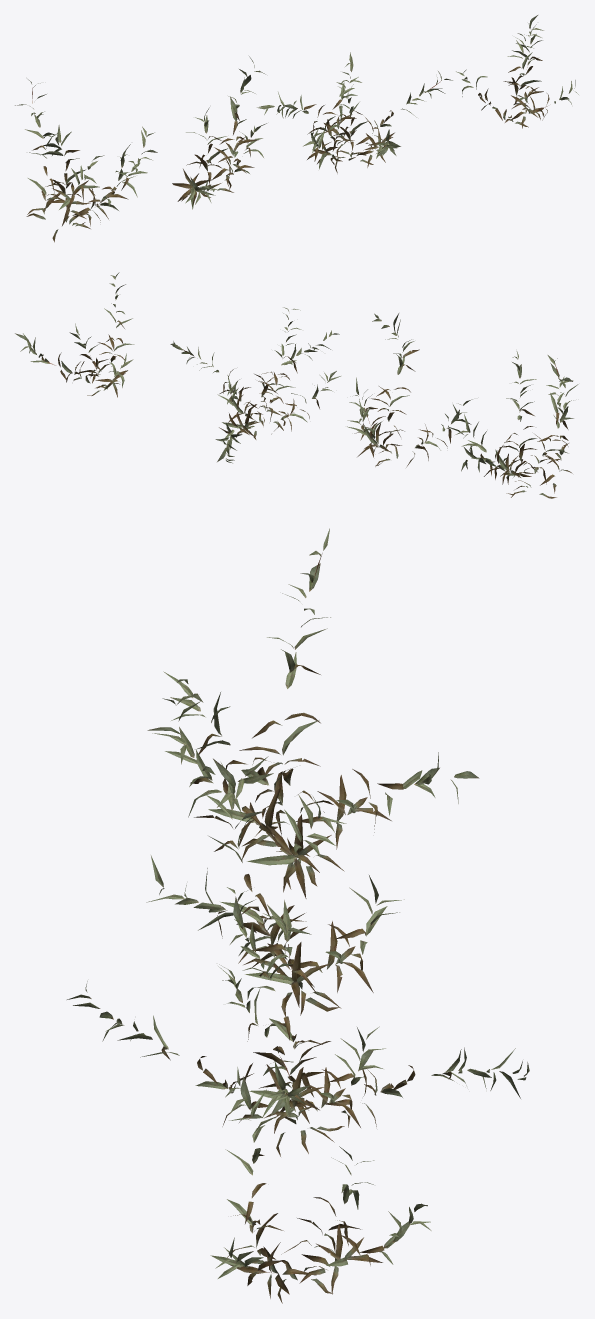
The model's file is shrub_02_lod.lo.glb.
3 views of the same model, one above another, from view 1: azimuth 30°, elevation 25°; view 2: azimuth 150°, elevation 25°; view 3: azimuth 270°, elevation 25° (orthographic). The views are drawn at different scales.
Parts seen in each view (by area): view 1: shrub_02_c, shrub_02_a, shrub_02_b, shrub_02_d; view 2: shrub_02_a, shrub_02_c, shrub_02_b, shrub_02_d; view 3: shrub_02_a, shrub_02_c, shrub_02_b, shrub_02_d.
Part boxes in pixels (<box>): shrub_02_c: <box>257,52,452,173</box>; shrub_02_a: <box>15,79,157,242</box>; shrub_02_b: <box>172,56,266,209</box>; shrub_02_d: <box>456,15,578,128</box>; shrub_02_a: <box>455,351,578,498</box>; shrub_02_c: <box>170,307,340,463</box>; shrub_02_b: <box>347,313,472,467</box>; shrub_02_d: <box>15,272,134,397</box>; shrub_02_a: <box>147,528,479,898</box>; shrub_02_c: <box>67,887,529,1156</box>; shrub_02_b: <box>146,756,404,1016</box>; shrub_02_d: <box>210,1067,431,1303</box>.
Size of the model in its own units: 6.05 by 1.7 by 2.28.
Materials: 1 (1 with a texture image).
